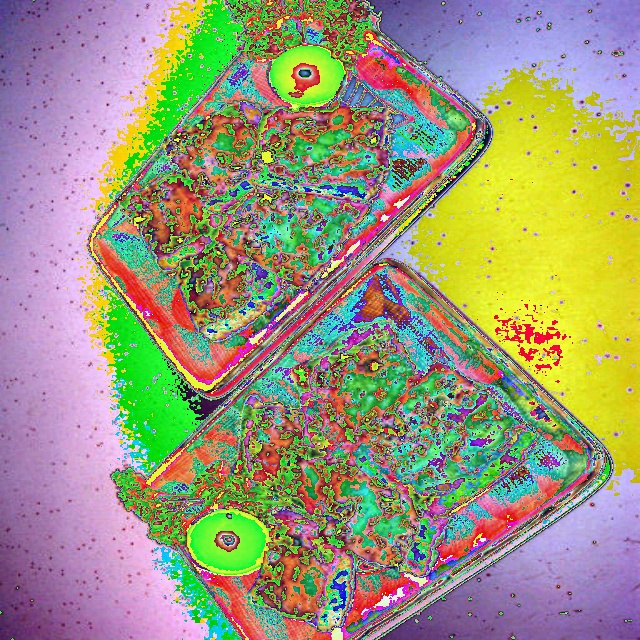background: (107, 314, 538, 632), (114, 0, 393, 344)
